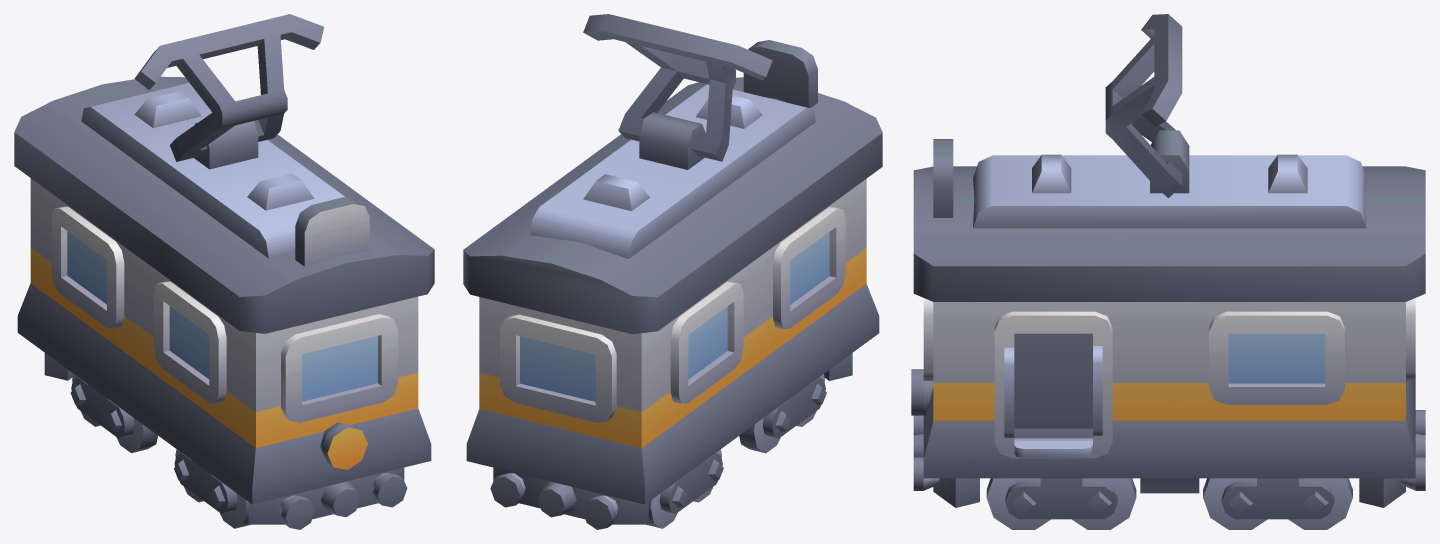
The model's file is tr-train-tram-classic.glb.
3 renders of one model, left to right at view 1: azimuth 30°, elevation 25°; view 2: azimuth 150°, elevation 25°; view 3: azimuth 270°, elevation 25°, orthographic. The views are drawn at different scales.
Parts seen in each view (by area): view 1: train-tram-classic; view 2: train-tram-classic; view 3: train-tram-classic.
Part boxes in pixels (x1=…): train-tram-classic: x1=14, y1=14, x2=434, y2=529; train-tram-classic: x1=463, y1=14, x2=882, y2=529; train-tram-classic: x1=911, y1=14, x2=1425, y2=529.
Size of the model in its own units: 1.25 by 2.52 by 2.61.
Materials: 1 (1 with a texture image).
